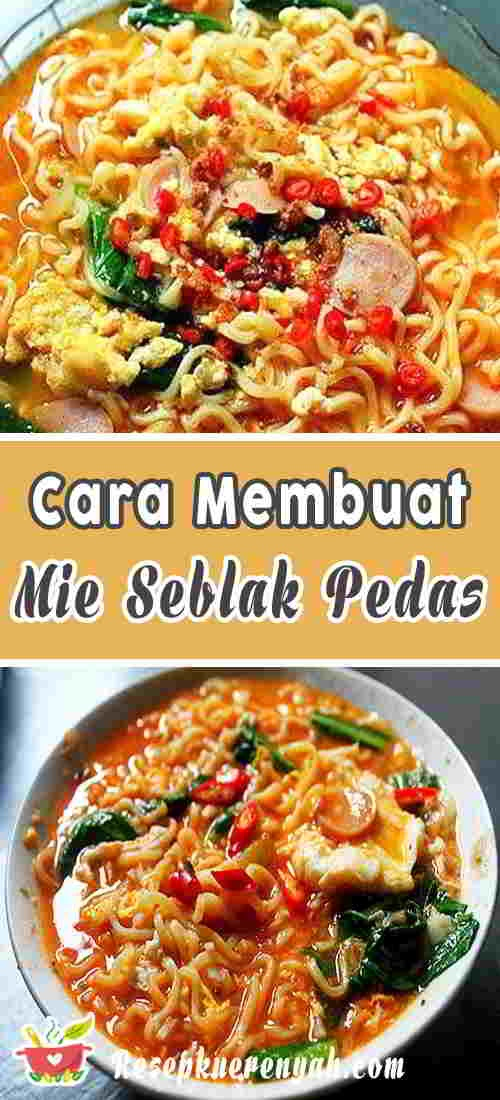seblak: (59, 685, 476, 1051)
